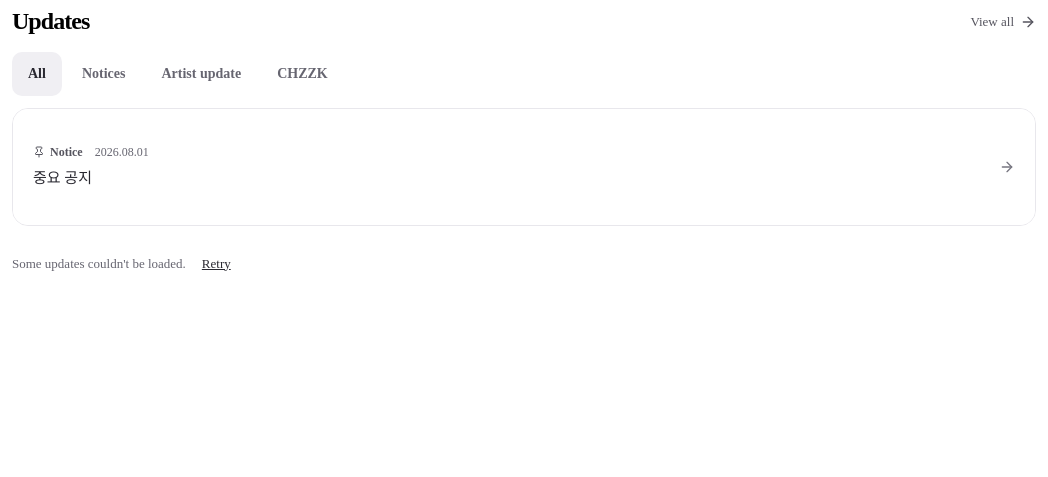
Test: creator news › retains notices during CHZZK failure and retries only the failed source
Expected: the text "Some updates couldn't be loaded." is shown, [12, 254, 186, 274]
Expected: the text "중요 공지" is shown, [33, 170, 92, 186]
Click the button "Retry". click: click(216, 264)
box: [194, 242, 239, 286]
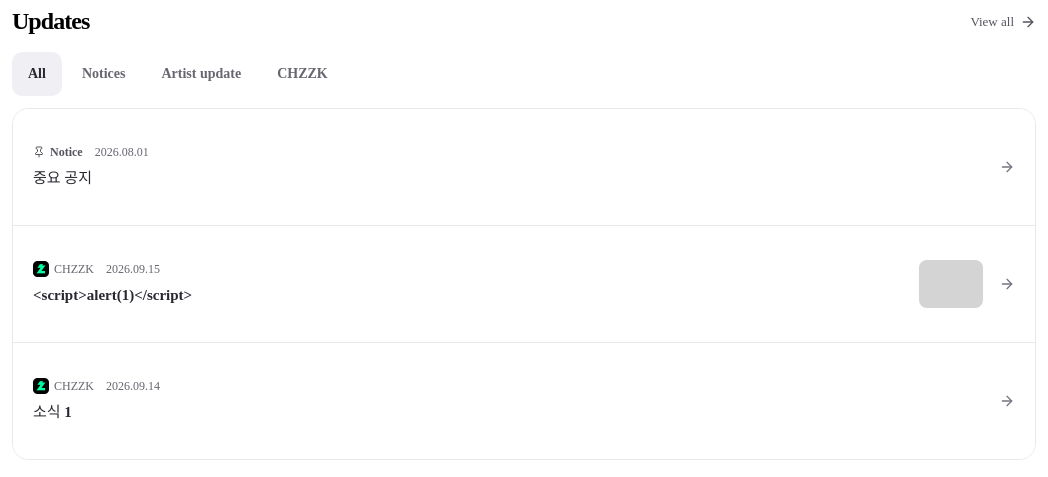
Result: the text "<script>alert(1)</script>" is shown at [33, 287, 192, 303]
